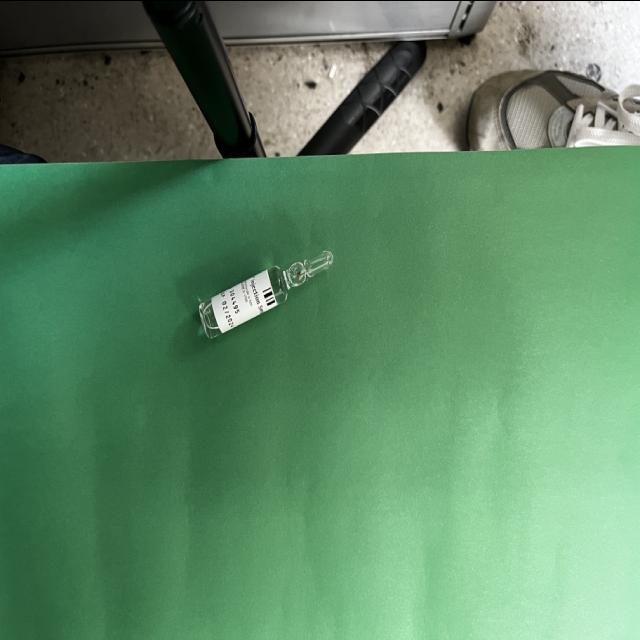Ampoules: (199, 249, 333, 337)
